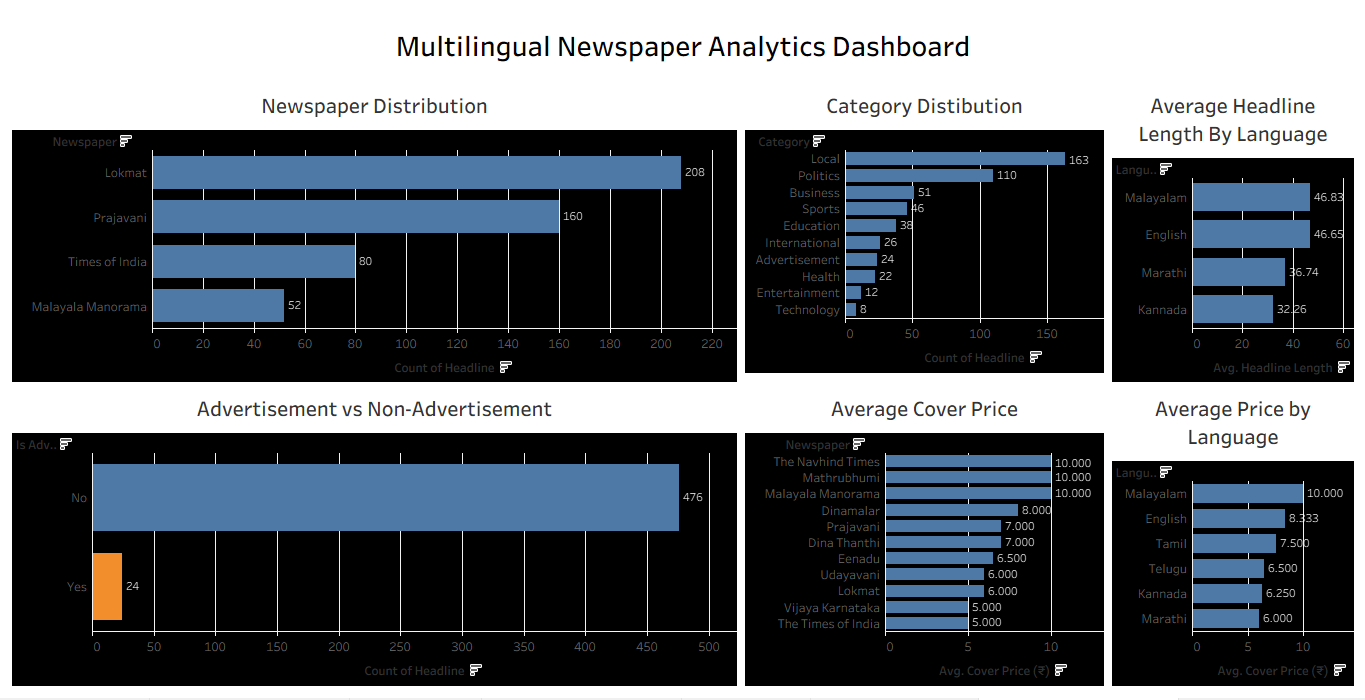

The dashboard page shown, as its layout file describes it:
{"tool":"tableau","page":{"name":"Multilingual Newspaper Analytics Dashboard","canvas":[1000,1000],"units":"permille","ordinal":0},"visuals":[{"type":"text","box":[6.9,14.7,986.1,106.2]},{"type":"worksheet","title":"Newspaper Distribution","mark":"Automatic","rows":["Newspaper"],"cols":["Headline"],"box":[6.9,121,535.6,432.1]},{"type":"worksheet","title":"Category Distibution","mark":"Automatic","rows":["Category"],"cols":["Headline"],"box":[542.5,121,267.8,432.1]},{"type":"worksheet","title":"Average Headline Length By Language","mark":"Automatic","rows":["Language"],"cols":["Calculation_540713474516951040"],"box":[810.3,121,182.8,432.1]},{"type":"worksheet","title":"Advertisement vs Non-Advertisement","mark":"Automatic","rows":["Is_Advertisement"],"cols":["Headline"],"box":[6.9,553.1,535.6,432.2]},{"type":"worksheet","title":"Average Cover Price","mark":"Automatic","rows":["Newspaper"],"cols":["Cover Price (₹)"],"box":[542.5,553.1,267.8,432.2]},{"type":"worksheet","title":"Average Price by Language","mark":"Automatic","rows":["Language"],"cols":["Cover Price (₹)"],"box":[810.3,553.1,182.8,432.2]}]}

Visuals, with their boxes on the dashboard's canvas, which has no fixed pixel size, in thousandths of its width and height (x1, y1, x2, y2). These are canvas units, not pixel positions in the 1365x700 screenshot, which may show the page scaled, cropped or inside an application window:
text: <region>7, 15, 993, 121</region>
"Newspaper Distribution" worksheet: <region>7, 121, 542, 553</region>
"Category Distibution" worksheet: <region>542, 121, 810, 553</region>
"Average Headline Length By Language" worksheet: <region>810, 121, 993, 553</region>
"Advertisement vs Non-Advertisement" worksheet: <region>7, 553, 542, 985</region>
"Average Cover Price" worksheet: <region>542, 553, 810, 985</region>
"Average Price by Language" worksheet: <region>810, 553, 993, 985</region>
